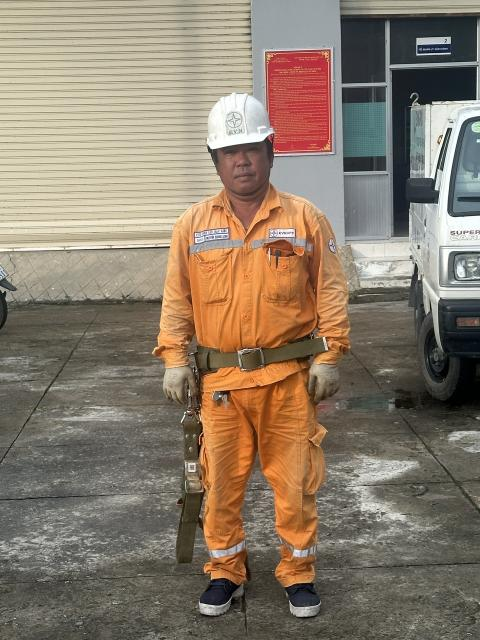gloves: (302, 358, 349, 404), (160, 361, 201, 405)
harness: (187, 337, 333, 369)
helmet: (177, 85, 288, 152)
shoes: (179, 564, 252, 630), (270, 567, 331, 627)
